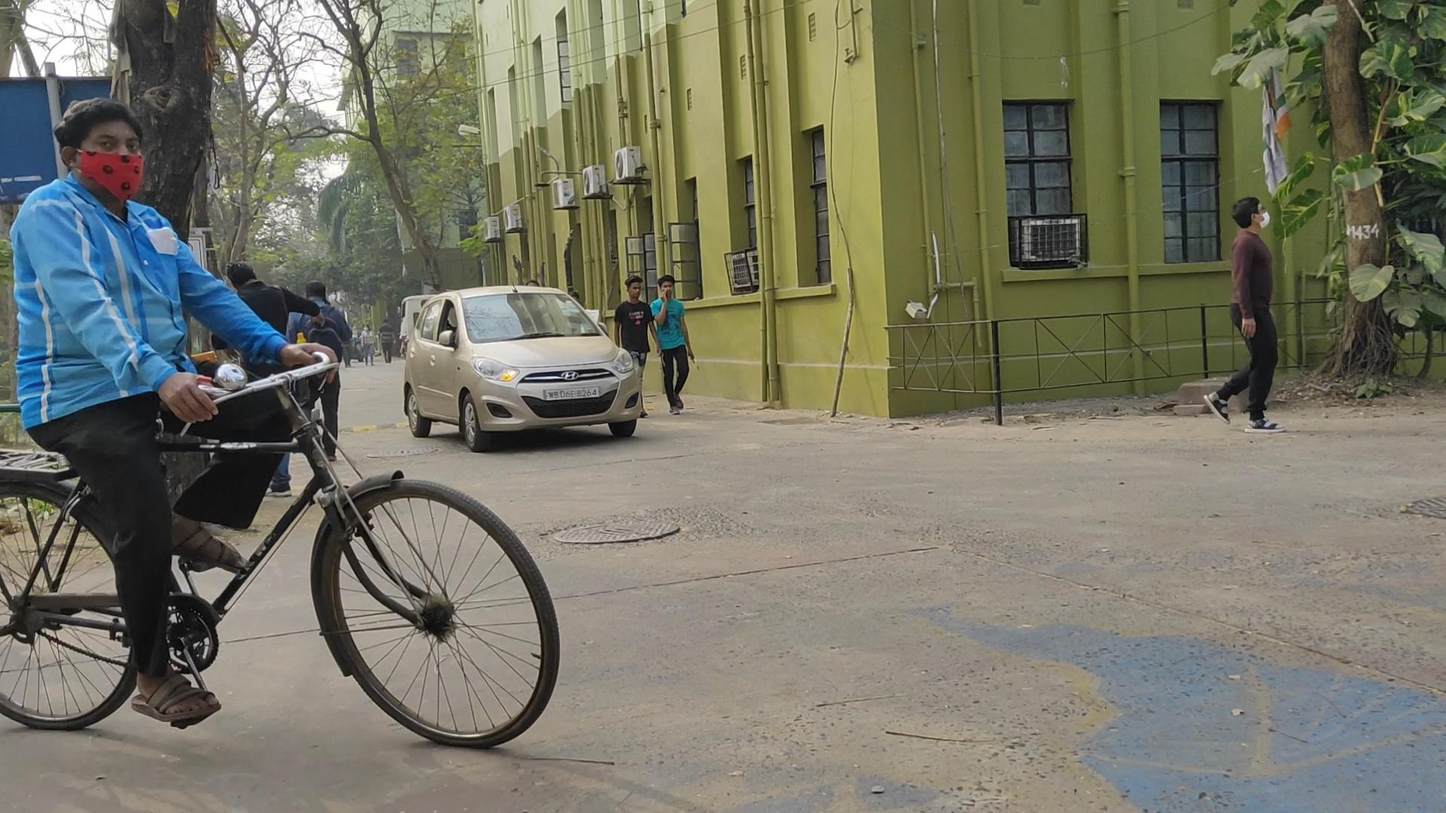bike: (1, 102, 560, 751)
car: (404, 285, 642, 453)
